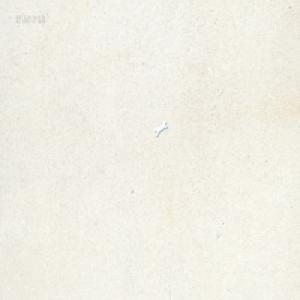Wrench: (154, 121, 168, 137)
